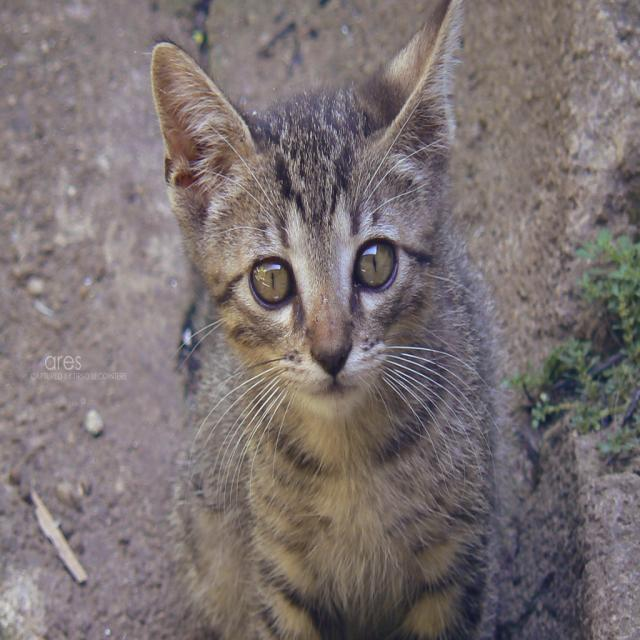Cat: (150, 0, 502, 639)
